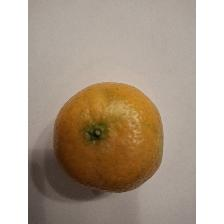Mandarine: (50, 78, 176, 196)
